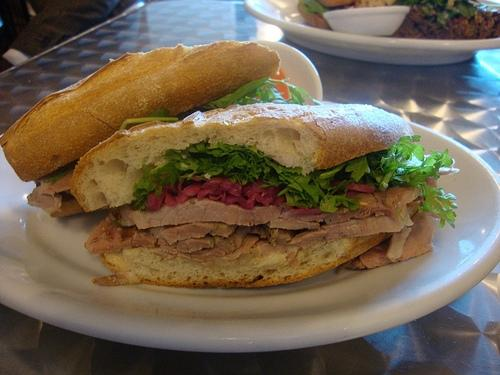lettuce: (377, 134, 424, 191), (418, 184, 458, 228), (237, 82, 299, 106), (283, 172, 320, 204), (45, 158, 80, 184), (119, 117, 179, 131), (214, 151, 248, 175), (434, 0, 458, 31), (345, 154, 370, 182), (297, 0, 330, 17), (188, 152, 229, 165), (251, 160, 264, 174)
